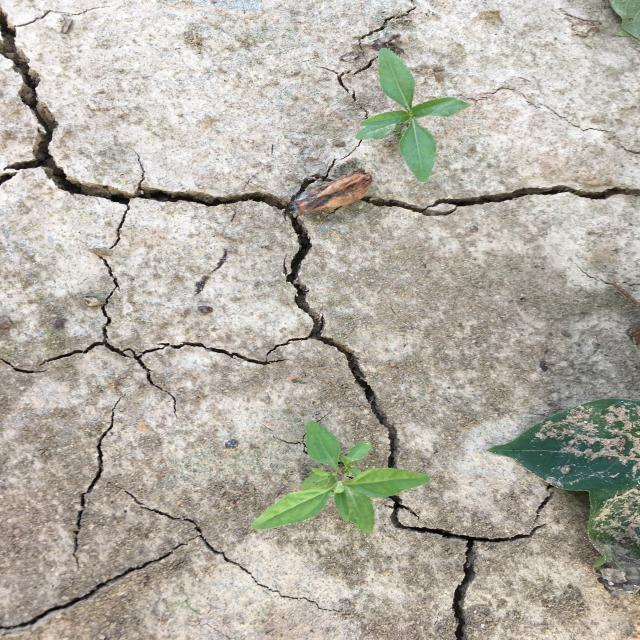Eclipta: (247, 419, 433, 536), (351, 46, 475, 184)
